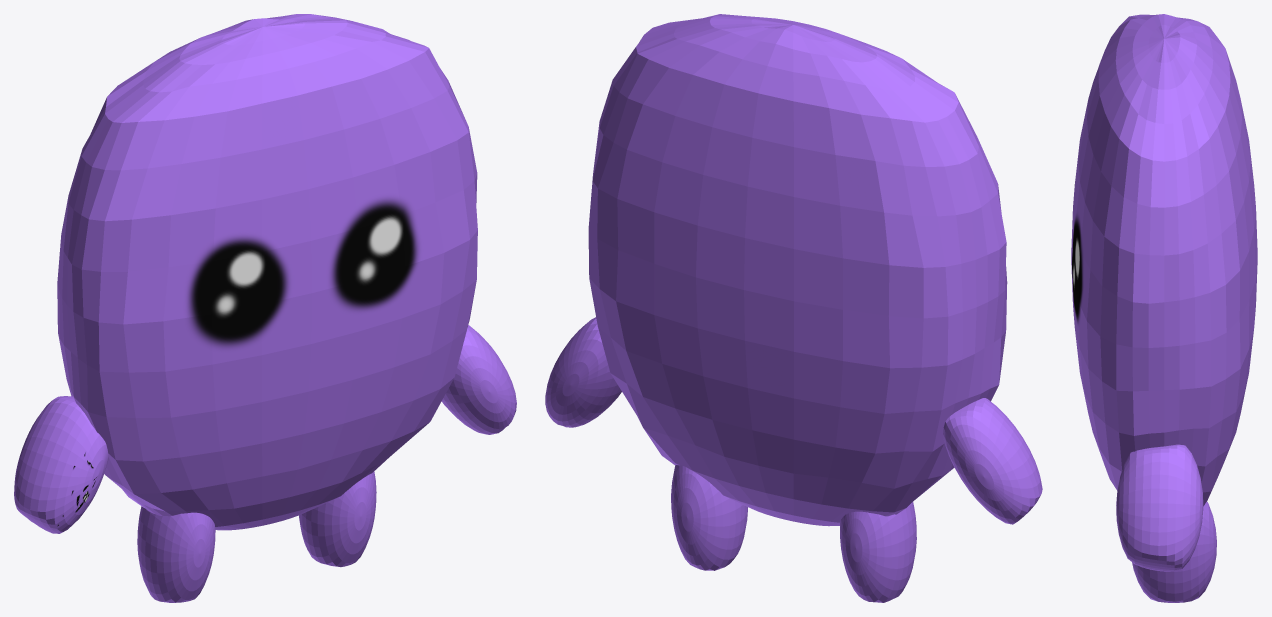
Rendered from waddle.glb.
The picture shows the model from 3 angles, left to right: view 1: azimuth 30°, elevation 25°; view 2: azimuth 150°, elevation 25°; view 3: azimuth 270°, elevation 25°; orthographic projection. The views are drawn at different scales.
Visible parts, largest first — view 1: Sphere.001; view 2: Sphere.001; view 3: Sphere.001.
Boxes of the visible parts, x1=… form: Sphere.001: x1=14, y1=14, x2=516, y2=602; Sphere.001: x1=545, y1=14, x2=1042, y2=602; Sphere.001: x1=1071, y1=14, x2=1257, y2=602.
Size of the model in its own units: 3.1 by 3.37 by 1.09.
1 material, 1 textured.
